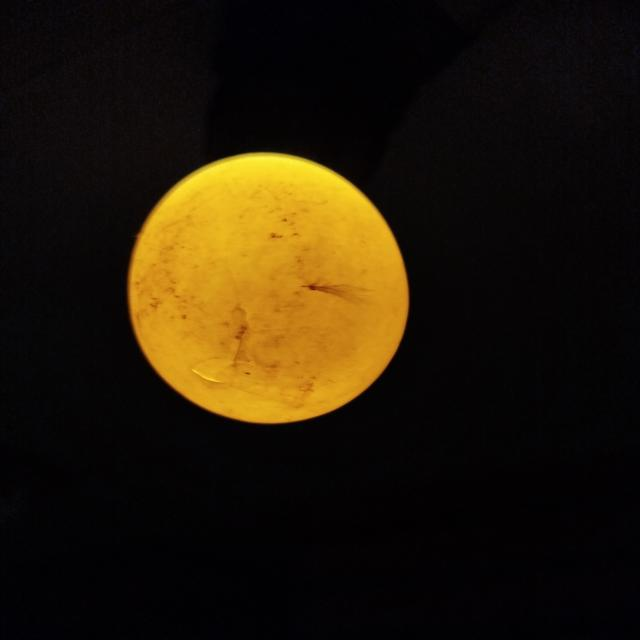Rachadura: (192, 306, 287, 403)
